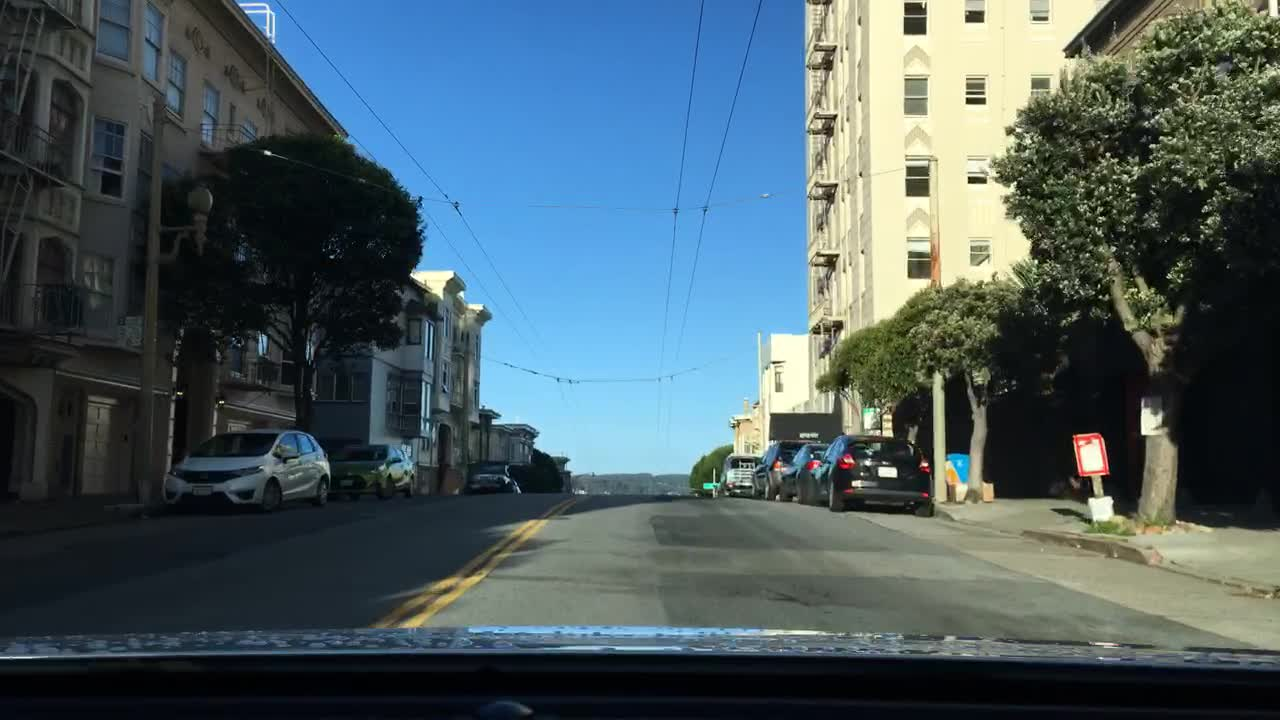car: (162, 428, 331, 511), (809, 433, 932, 516), (327, 442, 417, 496), (751, 439, 802, 501), (778, 442, 829, 504), (464, 464, 520, 491)
traffic sign: (1072, 429, 1106, 475), (117, 314, 144, 346), (859, 404, 880, 428), (701, 482, 718, 489)
truck: (718, 454, 761, 496)
